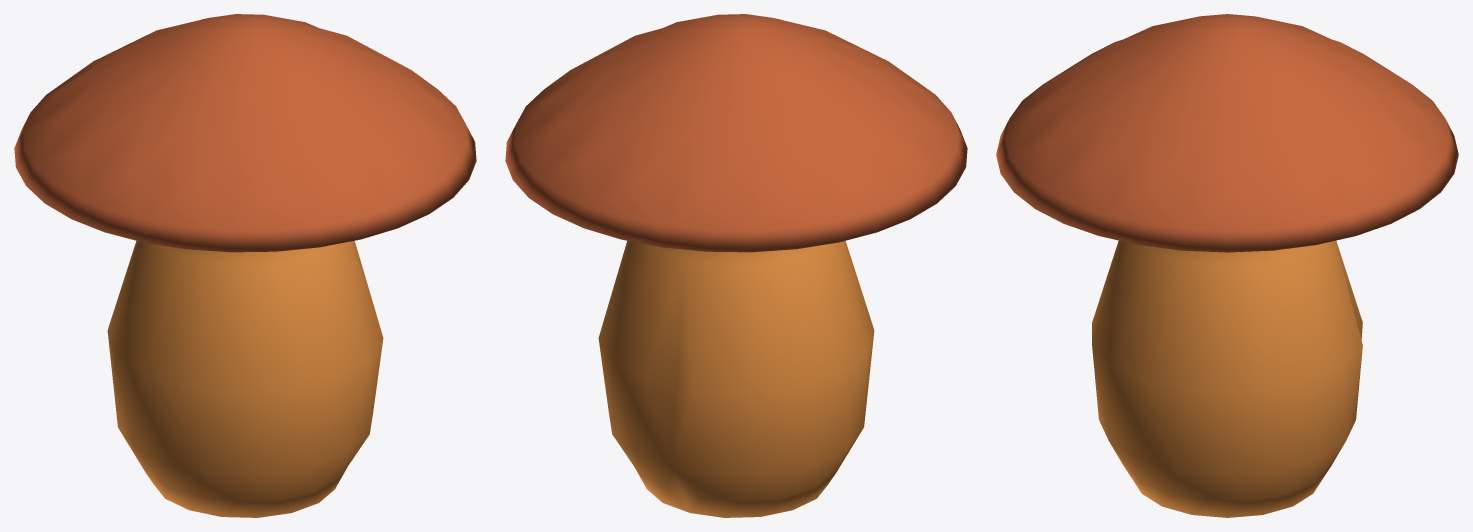
The model's file is Dubovnik Mushroom.fbx.
3 views of the same model, side by side, from view 1: azimuth 30°, elevation 25°; view 2: azimuth 150°, elevation 25°; view 3: azimuth 270°, elevation 25° (orthographic).
Parts seen in each view (by area): view 1: Dubovik Mushroom; view 2: Dubovik Mushroom; view 3: Dubovik Mushroom.
Part boxes in pixels (<box>): Dubovik Mushroom: <box>14,14,476,517</box>; Dubovik Mushroom: <box>505,14,967,517</box>; Dubovik Mushroom: <box>996,14,1458,517</box>.
Size of the model in its own units: 23.26 by 25.07 by 23.26.
